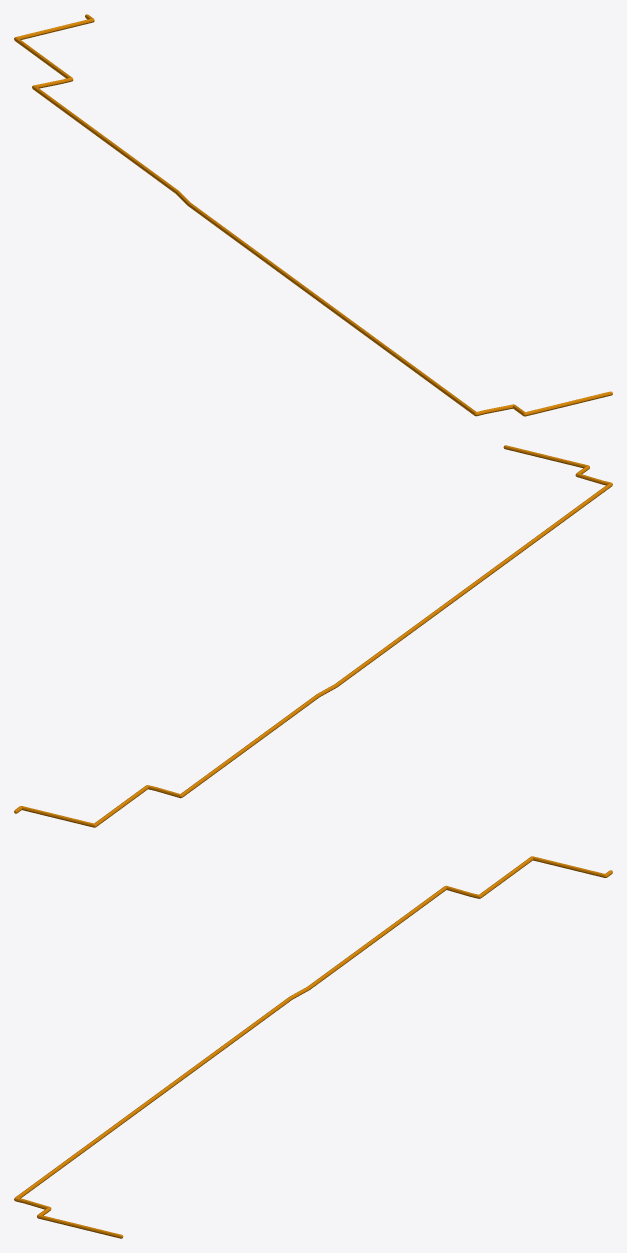
3 renders of one model, top to bottom at view 1: azimuth 30°, elevation 25°; view 2: azimuth 150°, elevation 25°; view 3: azimuth 330°, elevation 25°, orthographic. The views are drawn at different scales.
Size of the model in its own units: 660 by 20 by 4707.
